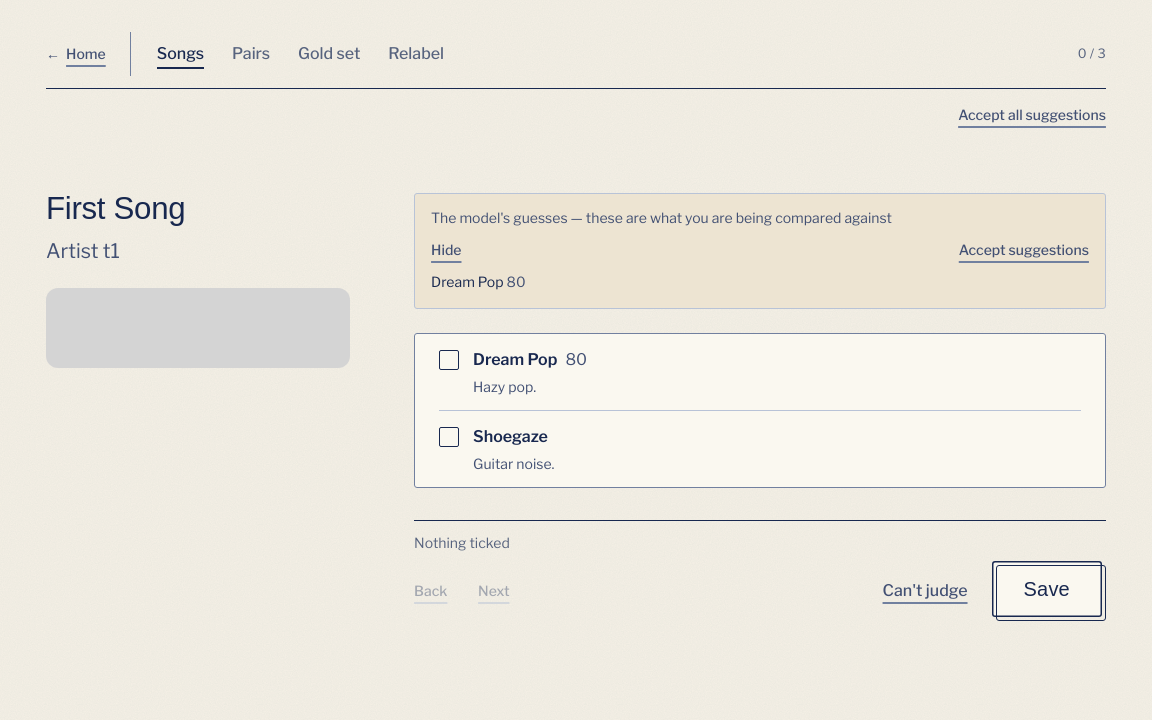
bulk accept focus › leaves focus on the tab when a tab click closes the confirm
Expected: the heading "First Song" is shown, [46, 191, 185, 226]
Click the button "Accept all suggestions": (1032, 115) [958, 93, 1106, 137]
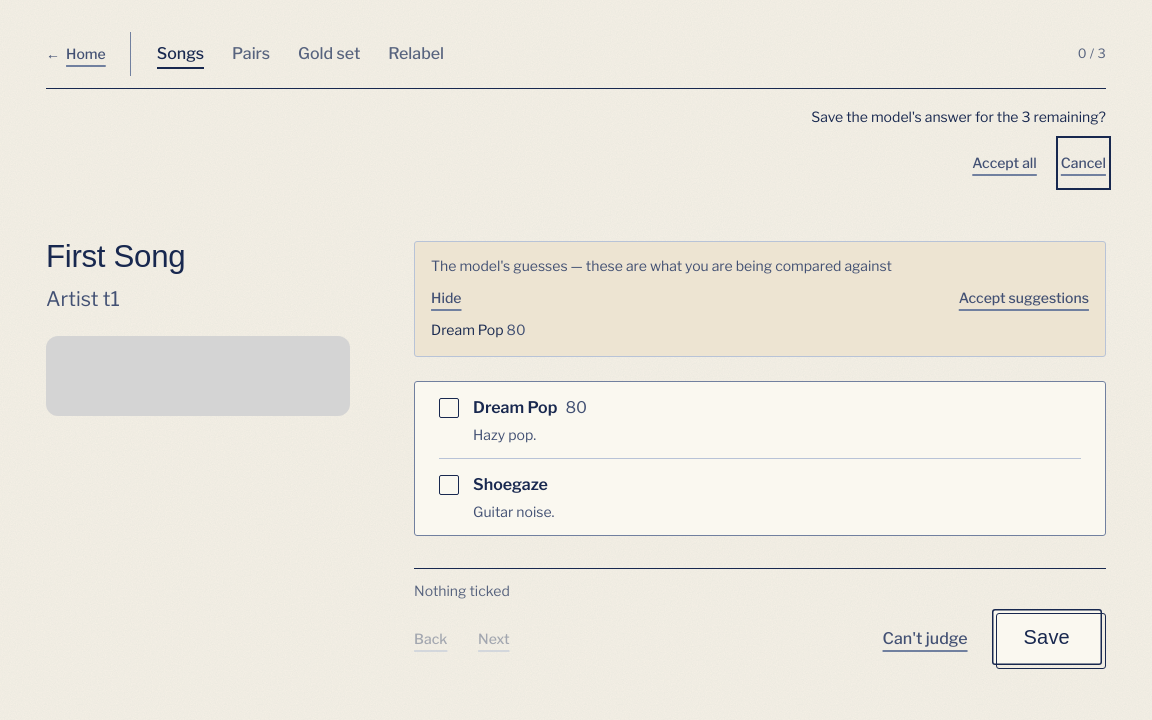
// The active tab: the song stays, so nothing else takes focus either.
Click the button "Songs": (180, 54) [147, 32, 214, 76]
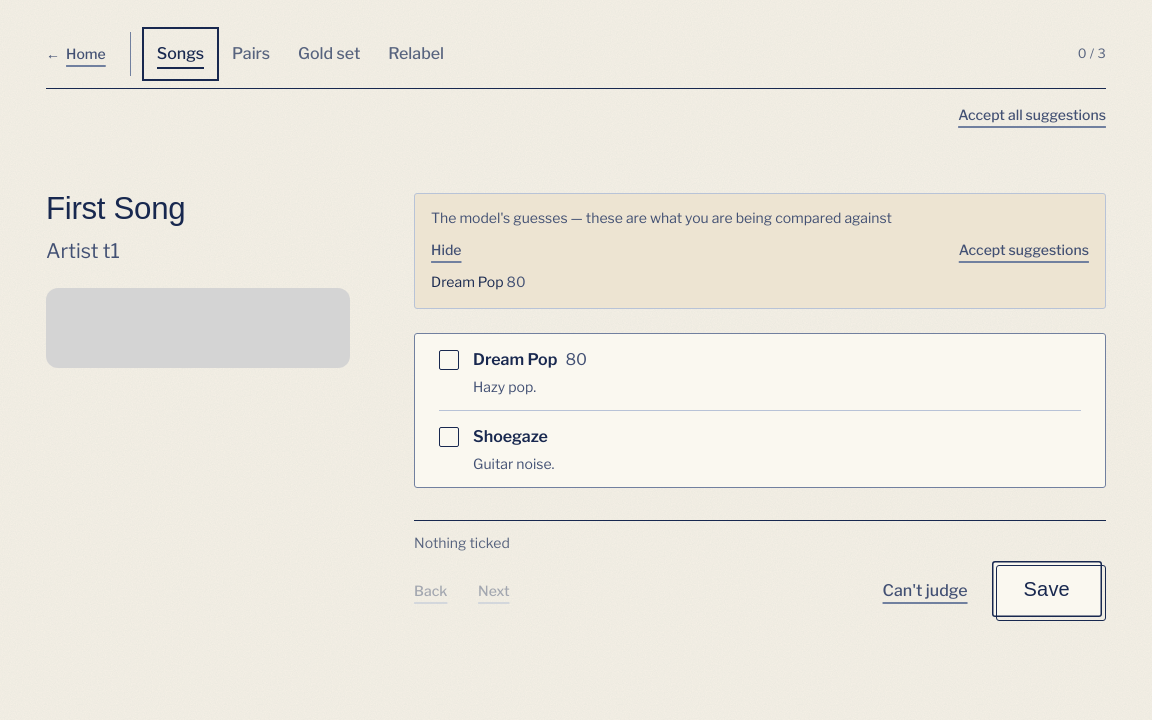
Expected: the button "Cancel" is gone
